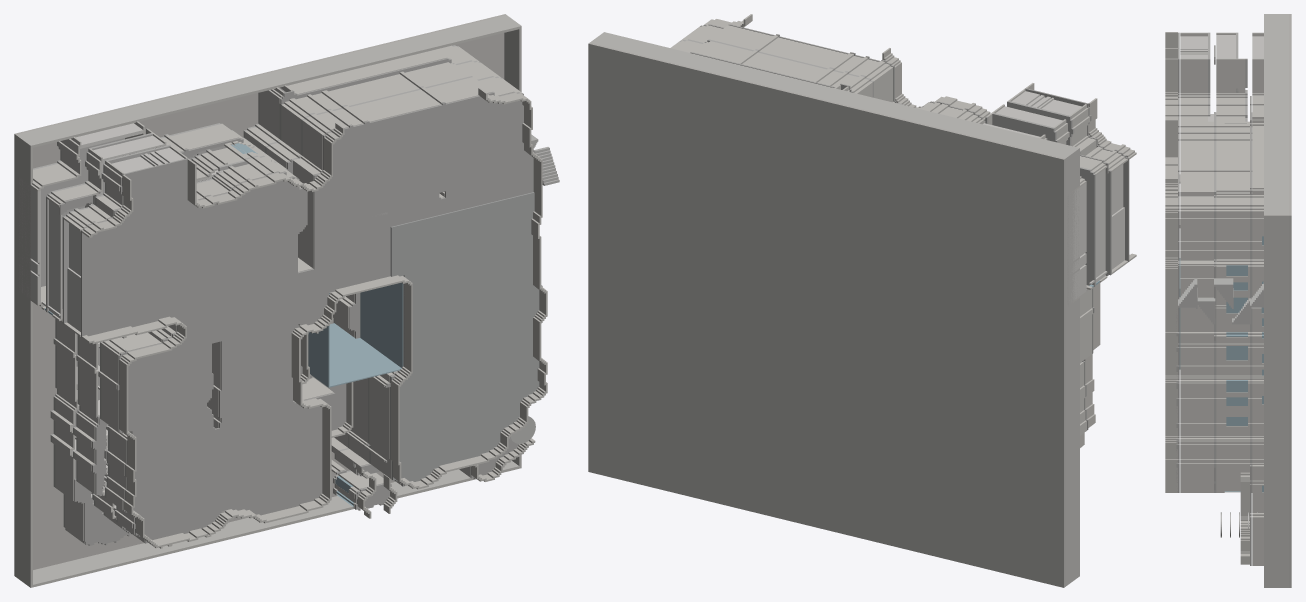
File: Disrupt_141C.glb
3 views of the same model, side by side, from view 1: azimuth 30°, elevation 25°; view 2: azimuth 150°, elevation 25°; view 3: azimuth 270°, elevation 25° (orthographic). The views are drawn at different scales.
Parts seen in each view (by area): view 1: Roof_Level_35-3_Slab, Roof_Corrugated_Sheet, Site_Boundary_Wall, Roof_Level_35-3_Parapet, SF_External_Walls, Ground_Apron, GF_External_Walls, FF_External_Walls, Courtyard_Glazing, Roof_Level_12-5_Slab, FF_Internal_Walls, GF_Internal_Walls (+6 smaller); view 2: Ground_Apron, Site_Boundary_Wall, SF_External_Walls, FF_External_Walls, Roof_Level_35-3_Parapet, FF_Slab, SF_Internal_Walls, Roof_Level_35-3_Slab, SF_Slab, FF_Internal_Walls, GF_Internal_Walls; view 3: Site_Boundary_Wall, SF_External_Walls, FF_External_Walls, Roof_Level_35-3_Parapet, GF_External_Walls, FF_Glazing, Ground_Apron, SF_Slab, FF_Slab, Roof_Level_12-5_Parapet, Roof_Level_35-3_Slab, FF_Stairs (+7 smaller).
Part boxes in pixels (bbox=[...]): Roof_Level_35-3_Slab: bbox=[81, 92, 535, 543]; Roof_Corrugated_Sheet: bbox=[390, 192, 542, 486]; Site_Boundary_Wall: bbox=[15, 15, 521, 587]; Roof_Level_35-3_Parapet: bbox=[82, 88, 547, 548]; SF_External_Walls: bbox=[64, 77, 522, 542]; Ground_Apron: bbox=[14, 14, 506, 576]; GF_External_Walls: bbox=[19, 45, 478, 544]; FF_External_Walls: bbox=[41, 61, 500, 533]; Courtyard_Glazing: bbox=[308, 282, 403, 387]; Roof_Level_12-5_Slab: bbox=[74, 58, 519, 545]; FF_Internal_Walls: bbox=[41, 135, 245, 510]; GF_Internal_Walls: bbox=[19, 123, 143, 500]; Ground_Apron: bbox=[588, 42, 1065, 587]; Site_Boundary_Wall: bbox=[590, 32, 1079, 586]; SF_External_Walls: bbox=[681, 25, 1127, 435]; FF_External_Walls: bbox=[670, 40, 1107, 290]; Roof_Level_35-3_Parapet: bbox=[704, 14, 1136, 447]; FF_Slab: bbox=[985, 113, 1095, 290]; SF_Internal_Walls: bbox=[1012, 91, 1124, 269]; Roof_Level_35-3_Slab: bbox=[700, 24, 1129, 430]; SF_Slab: bbox=[679, 39, 1111, 275]; FF_Internal_Walls: bbox=[996, 106, 1107, 284]; GF_Internal_Walls: bbox=[983, 123, 1086, 301]; Site_Boundary_Wall: bbox=[1264, 14, 1289, 587]; SF_External_Walls: bbox=[1180, 32, 1213, 492]; FF_External_Walls: bbox=[1216, 32, 1249, 492]; Roof_Level_35-3_Parapet: bbox=[1165, 32, 1177, 492]; GF_External_Walls: bbox=[1252, 32, 1263, 565]; FF_Glazing: bbox=[1224, 265, 1247, 491]; Ground_Apron: bbox=[1289, 14, 1291, 587]; SF_Slab: bbox=[1208, 32, 1216, 492]; FF_Slab: bbox=[1236, 32, 1252, 492]; Roof_Level_12-5_Parapet: bbox=[1240, 472, 1249, 564]; Roof_Level_35-3_Slab: bbox=[1178, 32, 1179, 492]; FF_Stairs: bbox=[1214, 278, 1251, 537].
Size of the model in its own units: 151 by 130 by 40.
